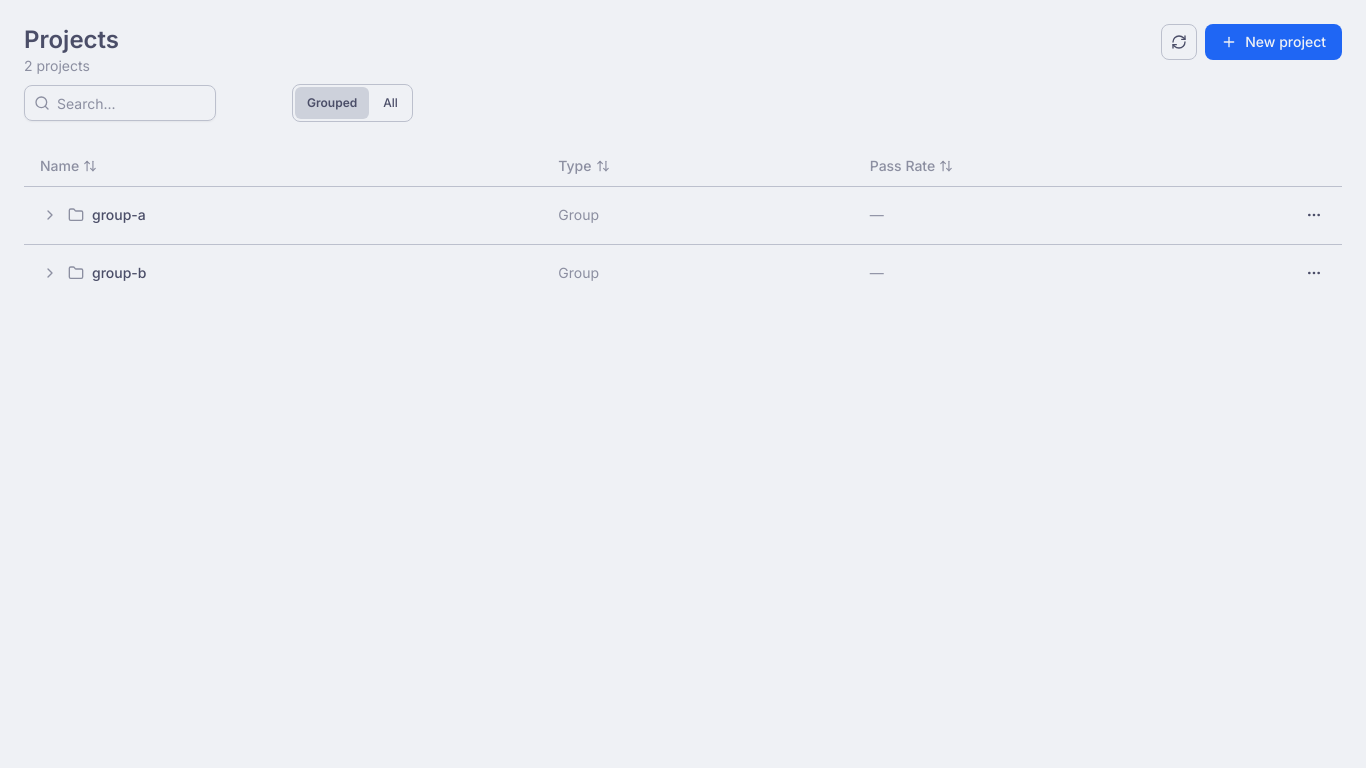
Scenario: DashboardPage › actions on a child whose slug another group also uses › refuses to rename the clicked child to its current name
Click the button named "expand group-b": x=50, y=273 [40,263,60,283]
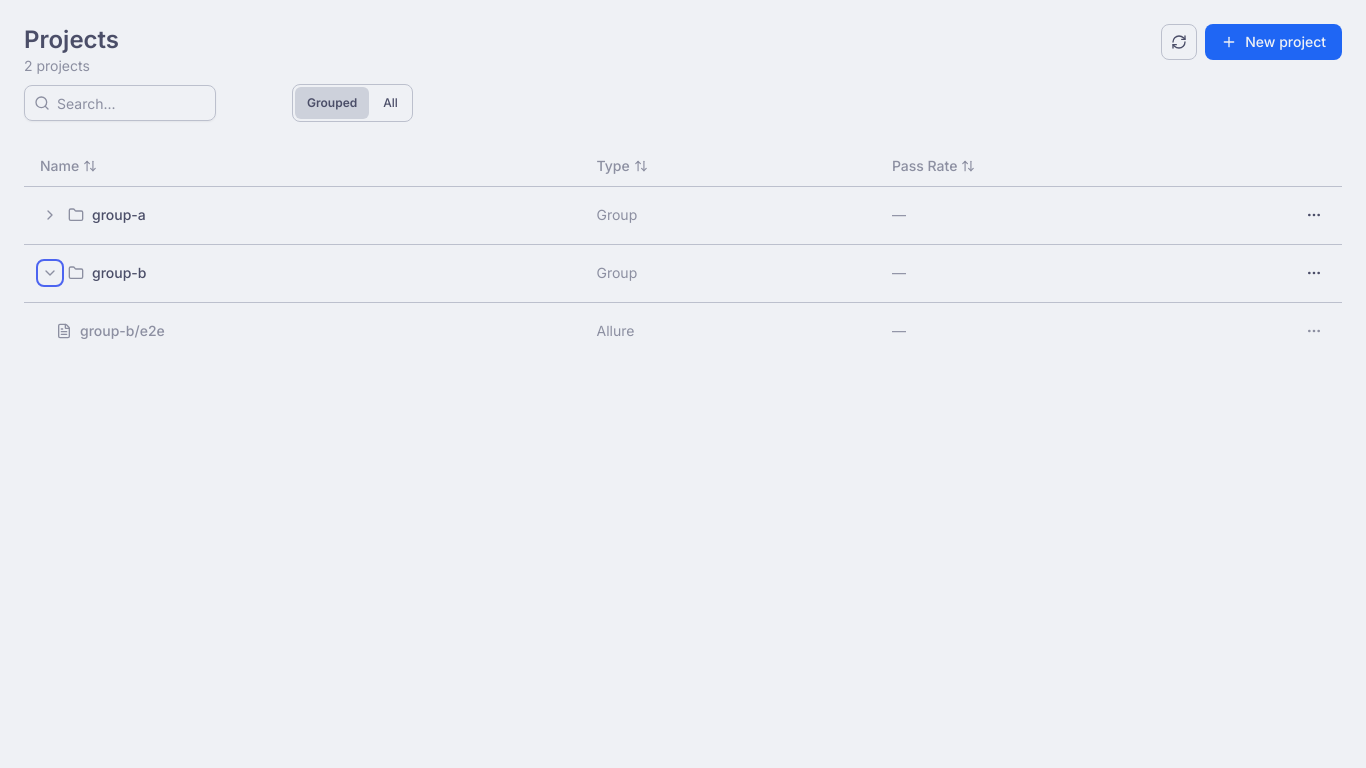
Click the button named "Project actions" in the row of "group-b/e2e": x=1314, y=330 [1302,318,1326,342]
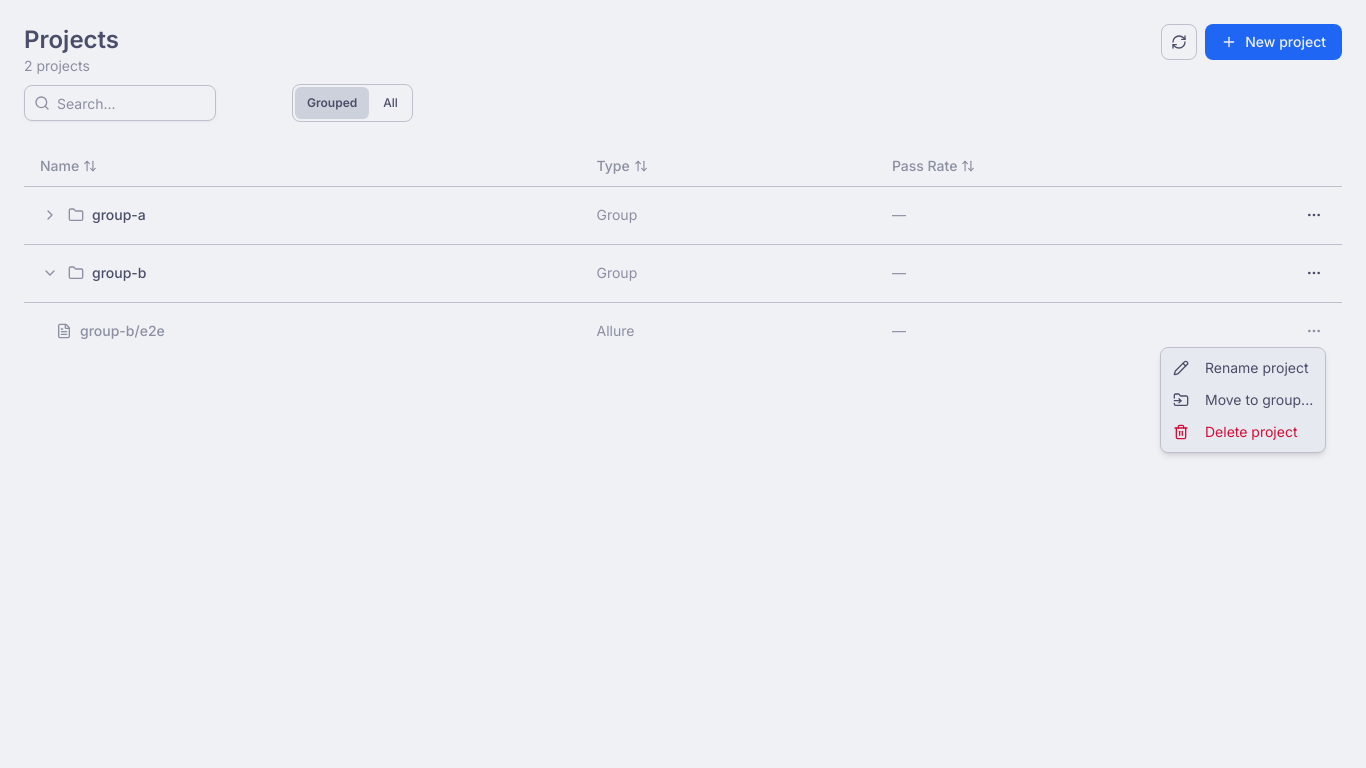
Click the menu item "Rename project": x=1241, y=368 [1173,359,1309,376]
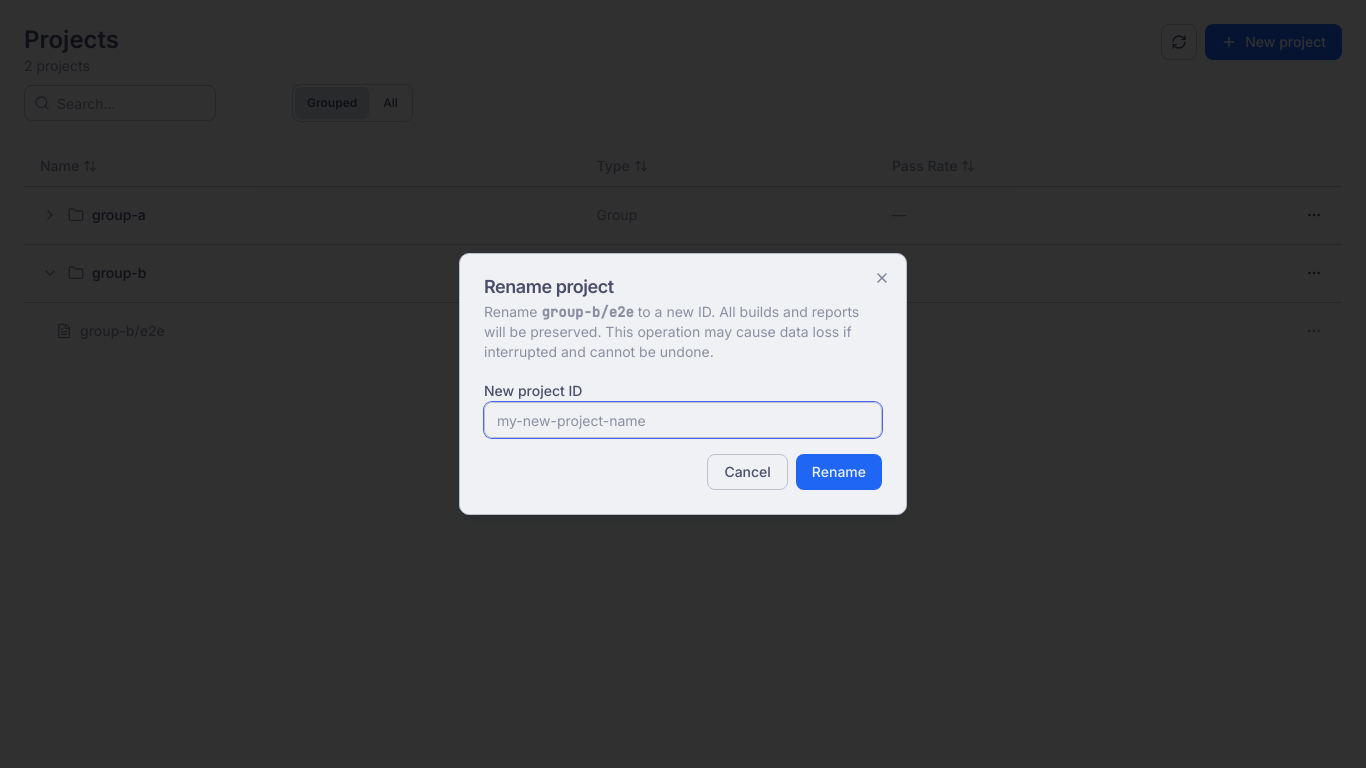
In the field labelled "New project ID": x=683, y=420 [484,402,882,438], type "e2e"
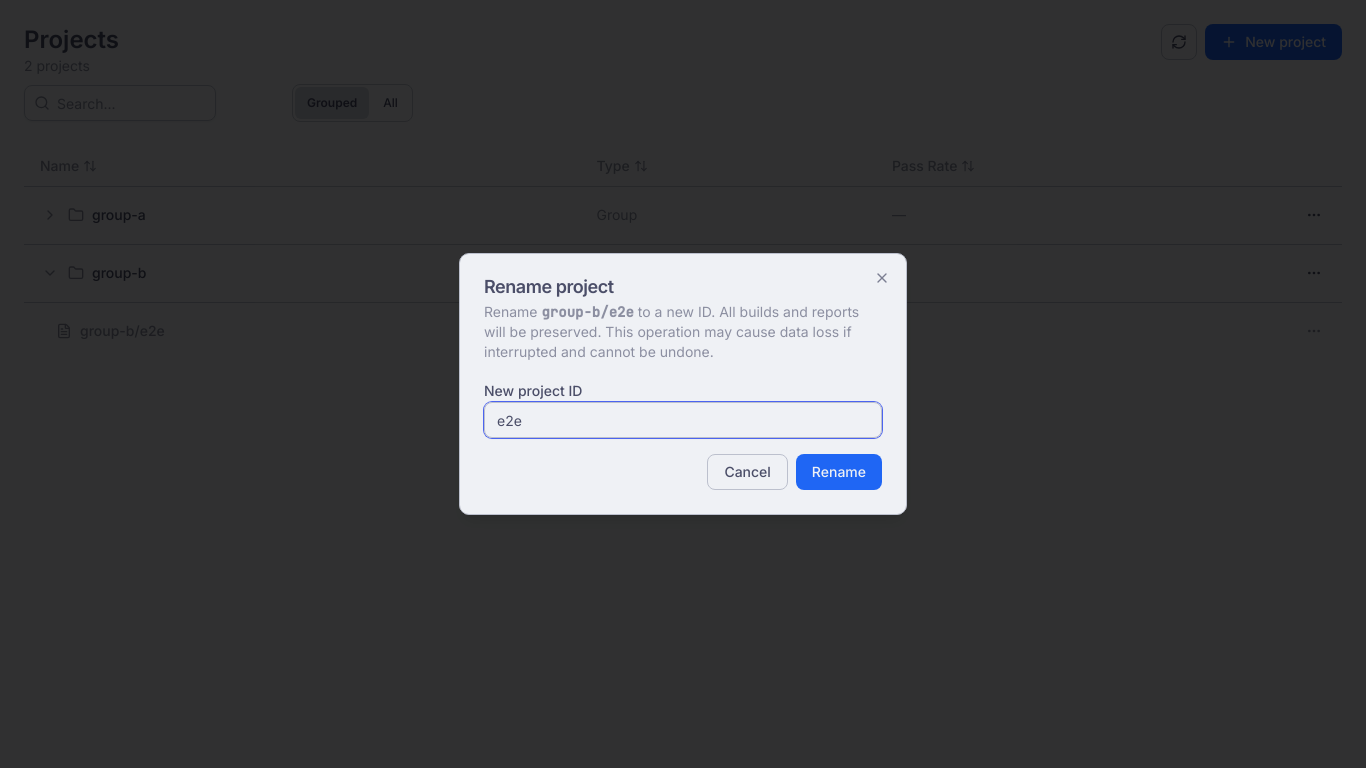
Click the button "Rename": x=839, y=472 [796,454,882,490]
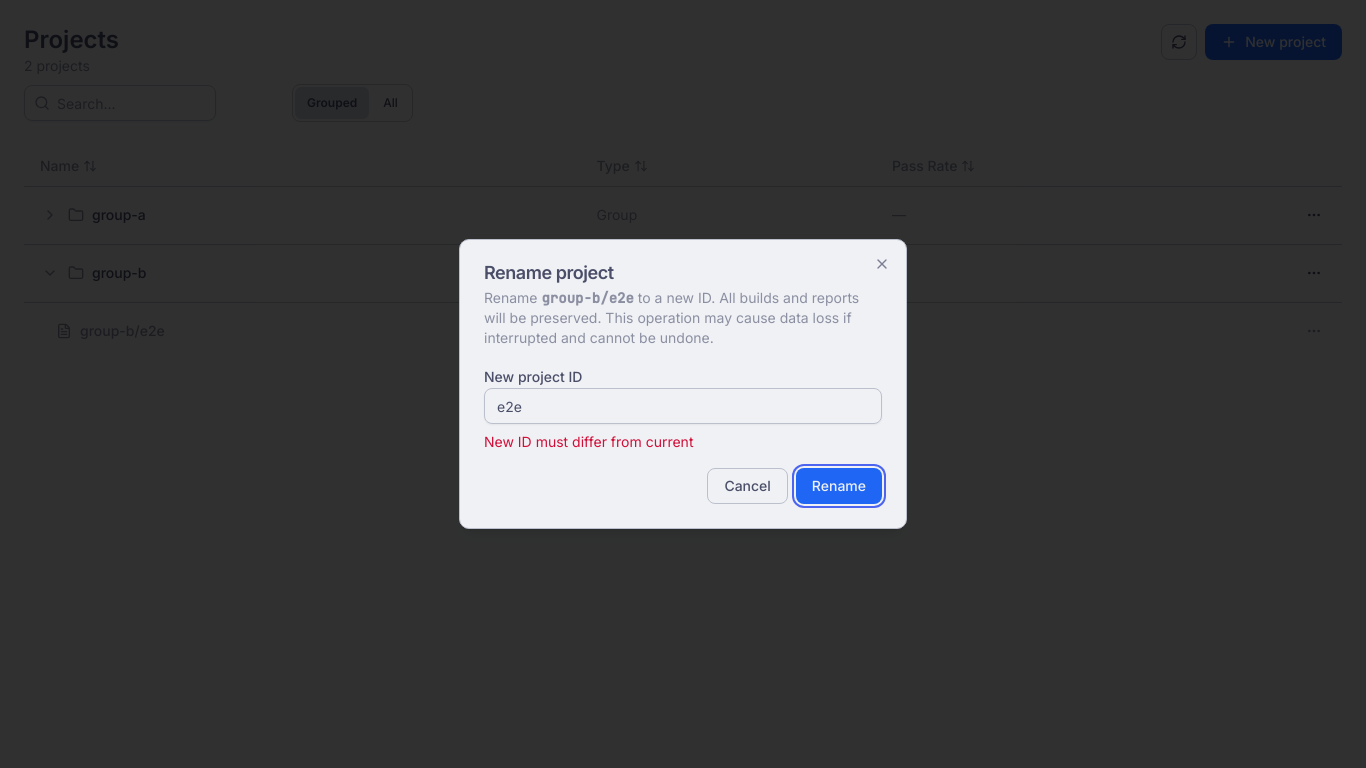
Check: the text "New ID must differ from current" is shown, box [484,433,694,450]
